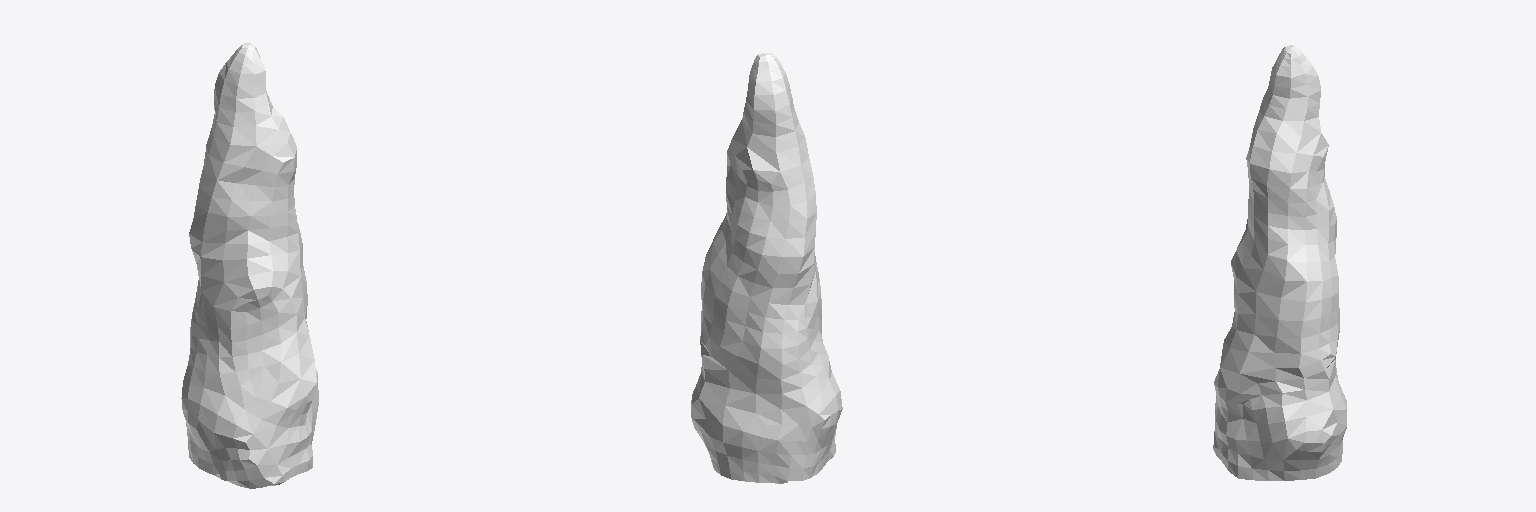
File: Stalactite02.Obj
3 views of the same model, side by side, from view 1: azimuth 30°, elevation 25°; view 2: azimuth 150°, elevation 25°; view 3: azimuth 270°, elevation 25° (orthographic).
Visible parts, largest first — view 1: Volume9; view 2: Volume9; view 3: Volume9.
Boxes of the visible parts, <box> form: Volume9: <box>181,43,318,488</box>; Volume9: <box>691,53,842,483</box>; Volume9: <box>1213,45,1346,480</box>.
Size of the model in its own units: 105 by 317 by 93.26.